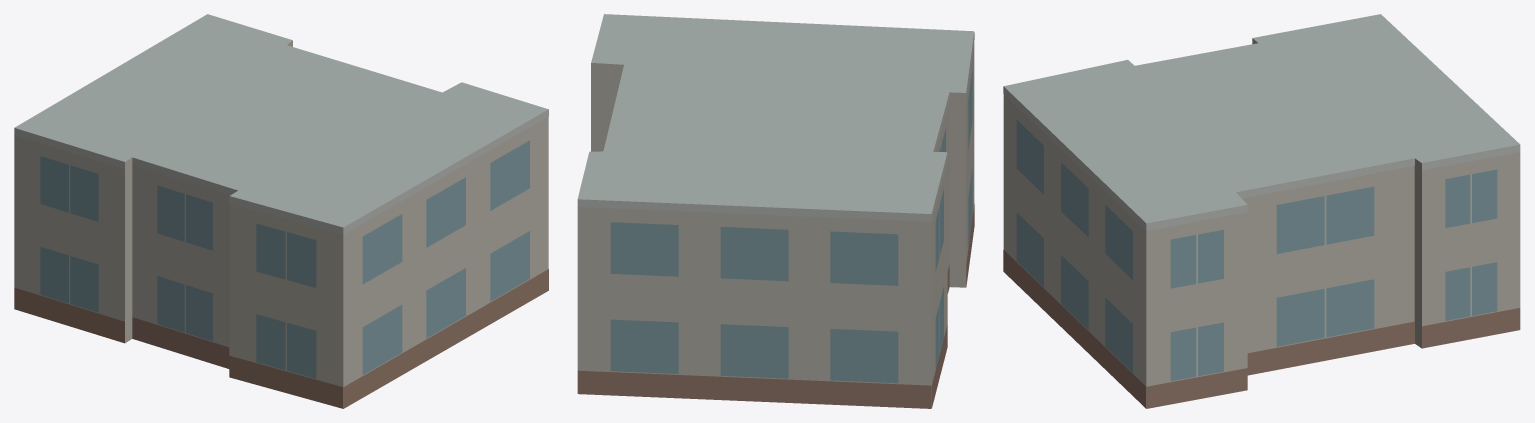
Rendered from survey-upis-32918982.glb.
The picture shows the model from 3 angles, left to right: view 1: azimuth 30°, elevation 25°; view 2: azimuth 150°, elevation 25°; view 3: azimuth 270°, elevation 25°; orthographic projection. The views are drawn at different scales.
Parts seen in each view (by area): view 1: survey-upis-32918982.tmp; view 2: survey-upis-32918982.tmp; view 3: survey-upis-32918982.tmp.
Part boxes in pixels (x1=…): survey-upis-32918982.tmp: x1=14, y1=14, x2=548, y2=408; survey-upis-32918982.tmp: x1=577, y1=14, x2=974, y2=408; survey-upis-32918982.tmp: x1=1003, y1=14, x2=1520, y2=408.
Size of the model in its own units: 14.79 by 6.1 by 15.42.
